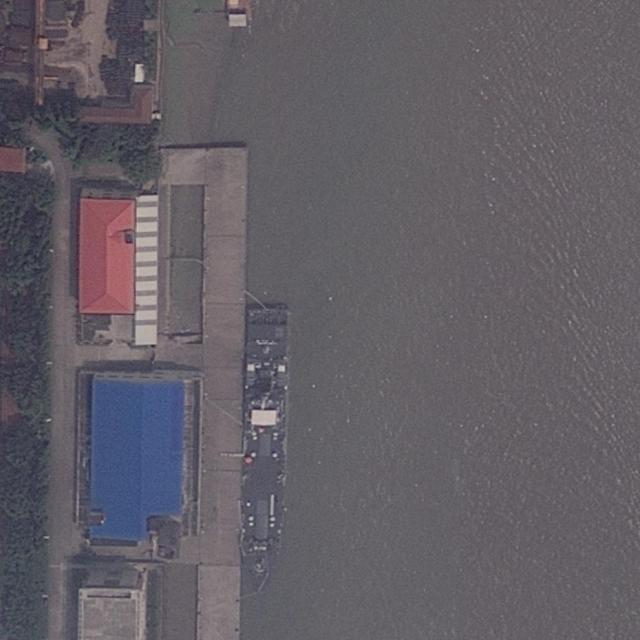Landing: (236, 305, 290, 597)
